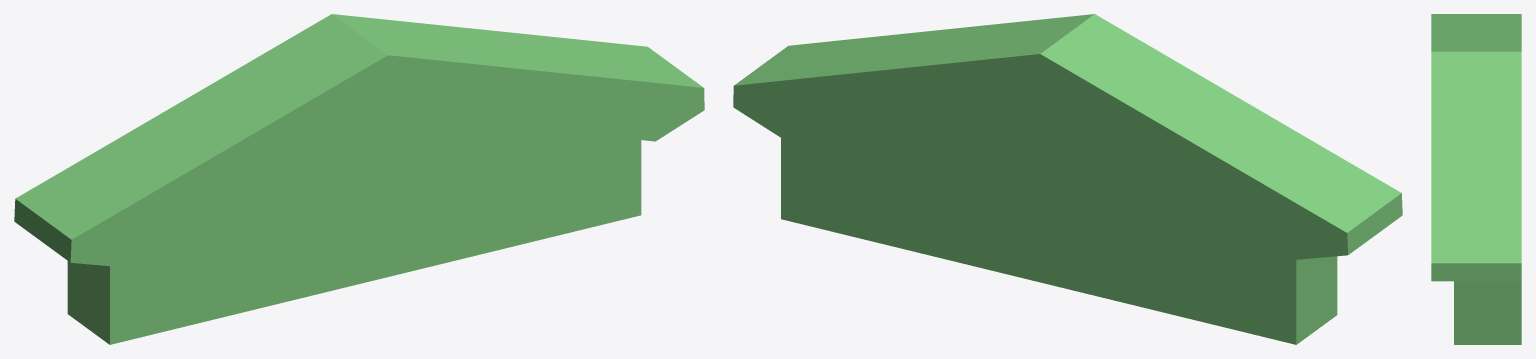
The model's file is Bld3_Deco_Tri.fbx.
3 renders of one model, left to right at view 1: azimuth 30°, elevation 25°; view 2: azimuth 150°, elevation 25°; view 3: azimuth 270°, elevation 25°, orthographic. The views are drawn at different scales.
Parts seen in each view (by area): view 1: Bld3_Deco_Tri; view 2: Bld3_Deco_Tri; view 3: Bld3_Deco_Tri.
Part boxes in pixels (bbox=[...]): Bld3_Deco_Tri: bbox=[14, 14, 704, 344]; Bld3_Deco_Tri: bbox=[733, 14, 1402, 344]; Bld3_Deco_Tri: bbox=[1431, 14, 1521, 344].
Bounding box in the file's own units: 390 × 139 × 60.01.
